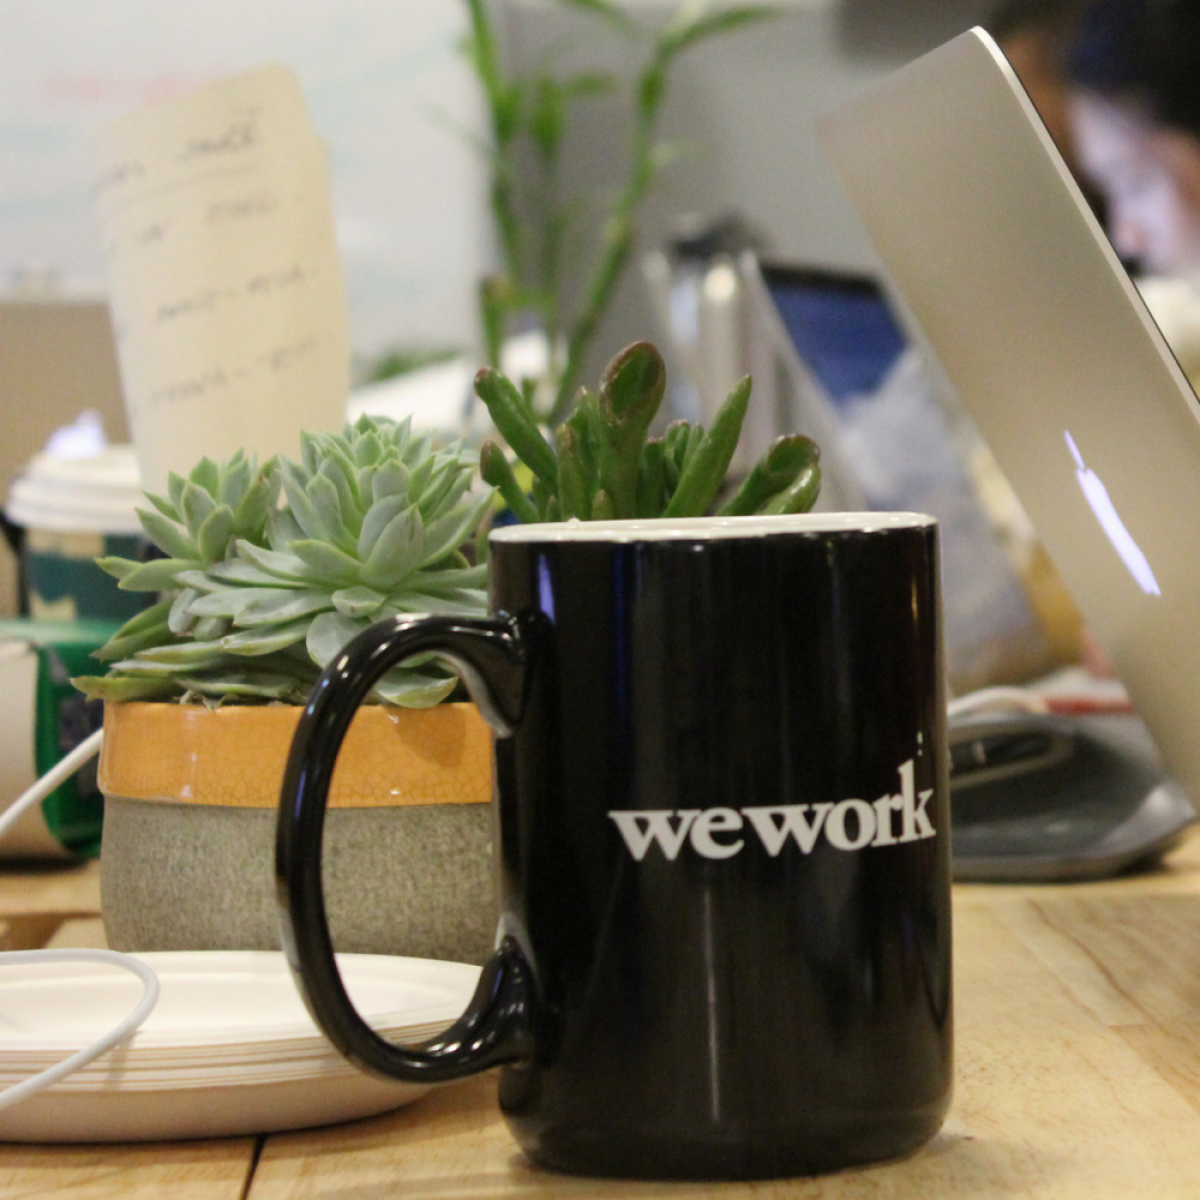wework: (598, 753, 942, 868)
